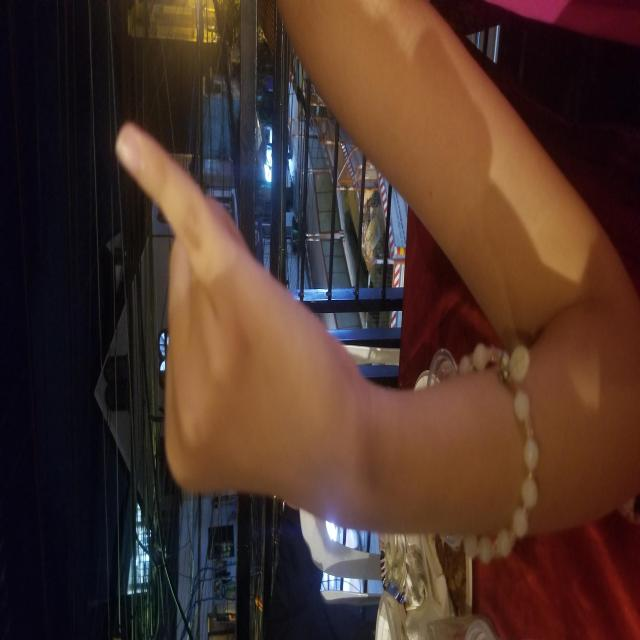J: (145, 114, 518, 360)
